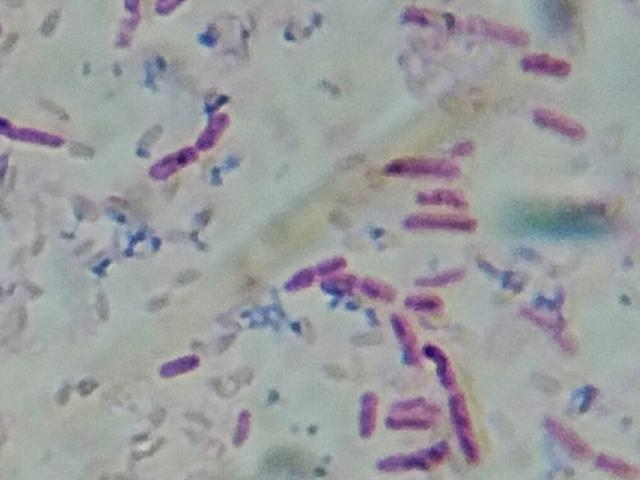E. coli: (0, 111, 63, 153), (450, 397, 485, 465), (515, 41, 574, 78), (424, 339, 464, 392), (385, 150, 460, 177), (530, 106, 588, 140), (387, 311, 422, 364), (377, 445, 448, 471), (197, 111, 237, 150), (153, 148, 198, 182), (416, 264, 469, 291), (150, 350, 200, 377), (354, 388, 378, 439), (417, 187, 466, 211), (388, 412, 432, 433), (314, 252, 347, 279), (234, 402, 251, 452), (362, 277, 393, 300), (326, 280, 361, 298), (157, 0, 187, 20), (289, 264, 309, 294), (406, 291, 434, 311)
